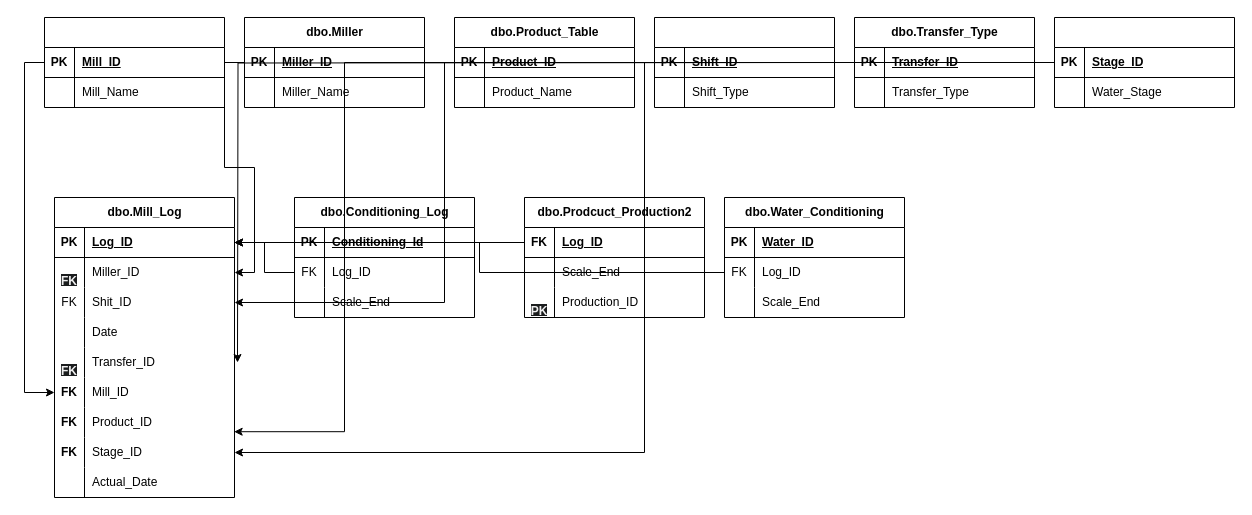
The diagram is 1252 pixels wide and 515 high, and some of its shapes have lost their labels. Each missing label, with the box of its shape:
dbo.Mill: (44, 16, 224, 108)
dbo.Shift_Type: (654, 16, 834, 108)
dbo.Water_Stage: (1054, 16, 1234, 108)
